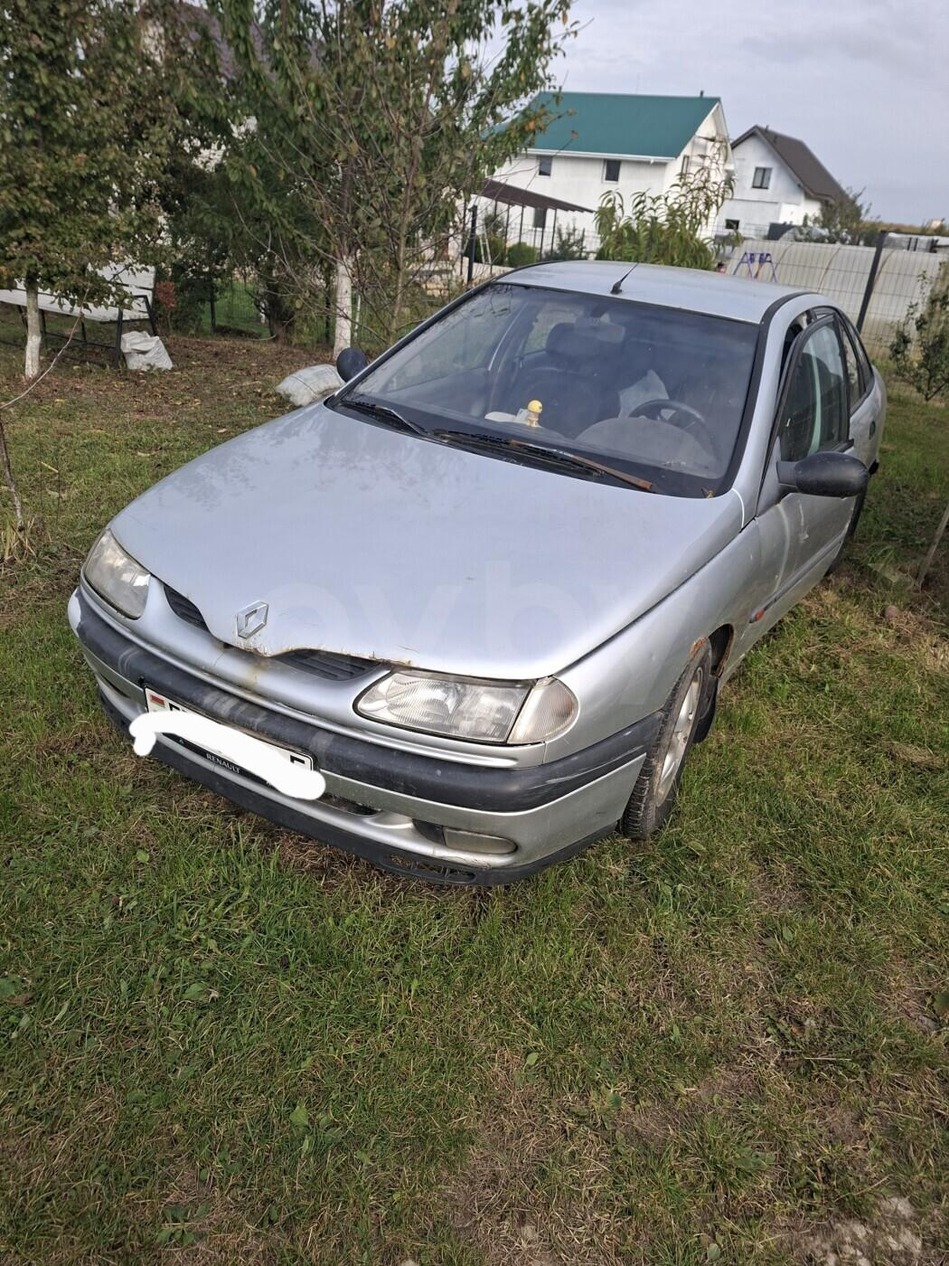Lahuna_1993-1999: (61, 257, 897, 912)
